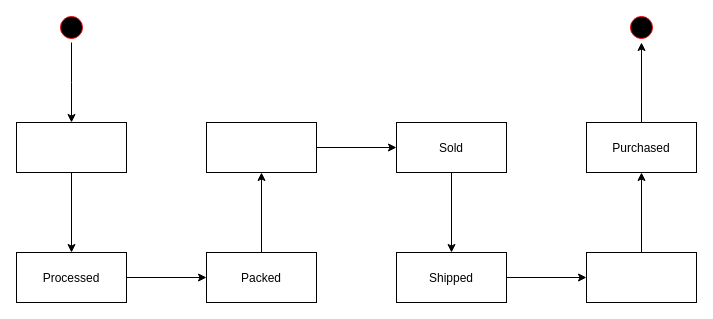
The diagram is 713 pixels wide and 319 high, and some of its shapes have lost their labels. The centre of each missing label's shape, as x and y in pixels:
For Sale: point 261,147
Harvested: point 71,147
Received: point 641,277
